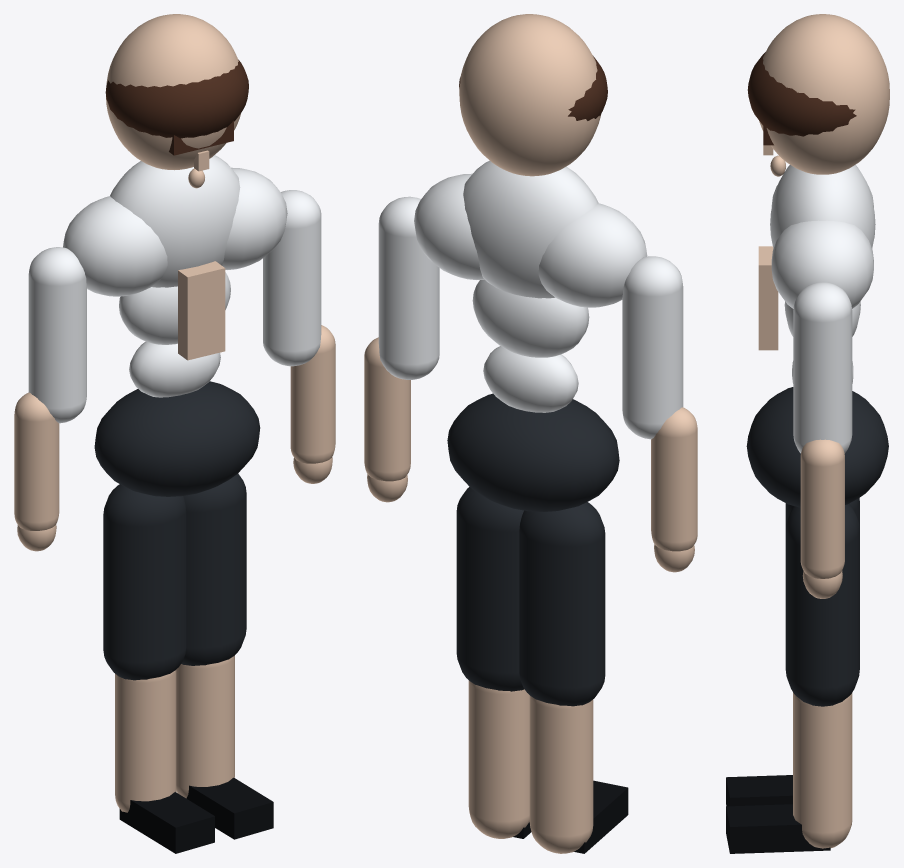
File: male_avatar.glb
The picture shows the model from 3 angles, left to right: view 1: azimuth 30°, elevation 25°; view 2: azimuth 150°, elevation 25°; view 3: azimuth 270°, elevation 25°; orthographic projection. The views are drawn at different scales.
Parts seen in each view (by area): view 1: Spine, LeftLeg, Hips, RightLeg, HeadMesh, LeftArm, RightArm, Head, LeftShin, RightShin, LeftForeArm, RightForeArm (+4 smaller); view 2: Spine, HeadMesh, LeftLeg, Hips, RightLeg, LeftArm, RightArm, LeftShin, RightShin, LeftForeArm, RightForeArm, LeftFoot (+3 smaller); view 3: Spine, HeadMesh, RightLeg, RightArm, RightShin, Hips, RightForeArm, Head, RightFoot, LeftFoot, RightHand.
Boxes of the visible parts, left/top/right/bottom form: Spine: left=63, top=155, right=287, bottom=397; LeftLeg: left=103, top=484, right=186, bottom=680; Hips: left=94, top=381, right=260, bottom=496; RightLeg: left=181, top=473, right=246, bottom=665; HeadMesh: left=106, top=14, right=240, bottom=170; LeftArm: left=28, top=247, right=86, bottom=423; RightArm: left=263, top=190, right=321, bottom=366; Head: left=105, top=59, right=248, bottom=188; LeftShin: left=115, top=670, right=176, bottom=812; RightShin: left=176, top=655, right=234, bottom=798; LeftForeArm: left=14, top=392, right=59, bottom=530; RightForeArm: left=290, top=325, right=335, bottom=463; Spine: left=414, top=160, right=647, bottom=412; HeadMesh: left=459, top=14, right=601, bottom=176; LeftLeg: left=519, top=502, right=605, bottom=706; Hips: left=447, top=393, right=619, bottom=511; RightLeg: left=456, top=487, right=524, bottom=691; LeftArm: left=622, top=256, right=683, bottom=439; RightArm: left=378, top=196, right=439, bottom=379; LeftShin: left=529, top=695, right=593, bottom=853; RightShin: left=468, top=680, right=529, bottom=838; LeftForeArm: left=651, top=407, right=697, bottom=551; RightForeArm: left=364, top=337, right=410, bottom=481; LeftFoot: left=574, top=780, right=628, bottom=853; Spine: left=758, top=165, right=875, bottom=383; HeadMesh: left=759, top=14, right=889, bottom=174; RightLeg: left=785, top=504, right=859, bottom=706; RightArm: left=793, top=282, right=852, bottom=453; RightShin: left=793, top=693, right=852, bottom=848; Hips: left=746, top=387, right=888, bottom=507; RightForeArm: left=800, top=439, right=844, bottom=578; Head: left=747, top=52, right=856, bottom=176; RightFoot: left=726, top=804, right=830, bottom=853; LeftFoot: left=726, top=775, right=792, bottom=806; RightHand: left=802, top=571, right=842, bottom=598.
Bounding box in the file's own units: 1.51 × 3.62 × 0.6628.
